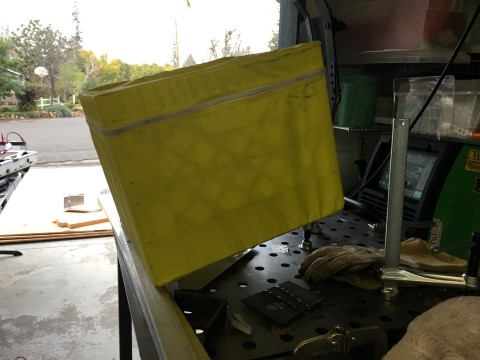cube: (79, 41, 346, 287)
